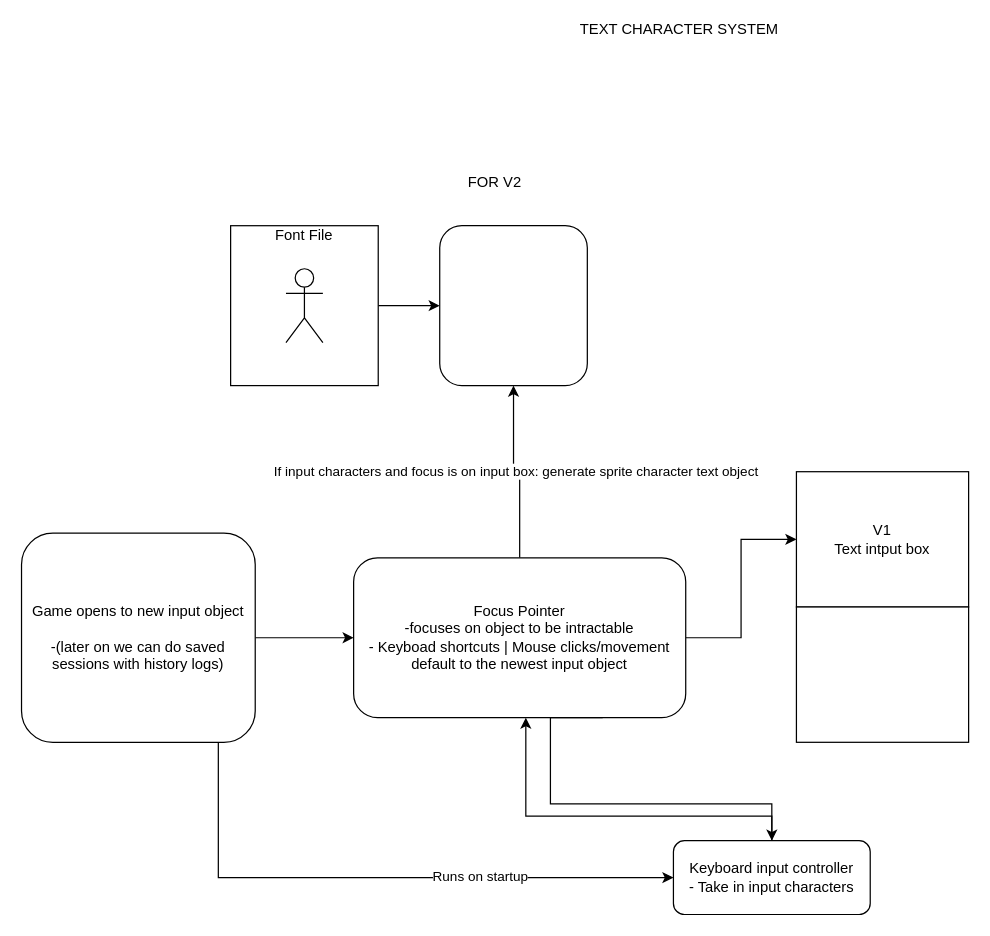
This 990x936 diagram has some shape labels left out. The centre of each missing label's shape, as x and y in pixels:
"Character processor" belongs at (512,305).
"Font Characters" belongs at (304,305).
"V2 Text input box using character pocessor" belongs at (882,674).
